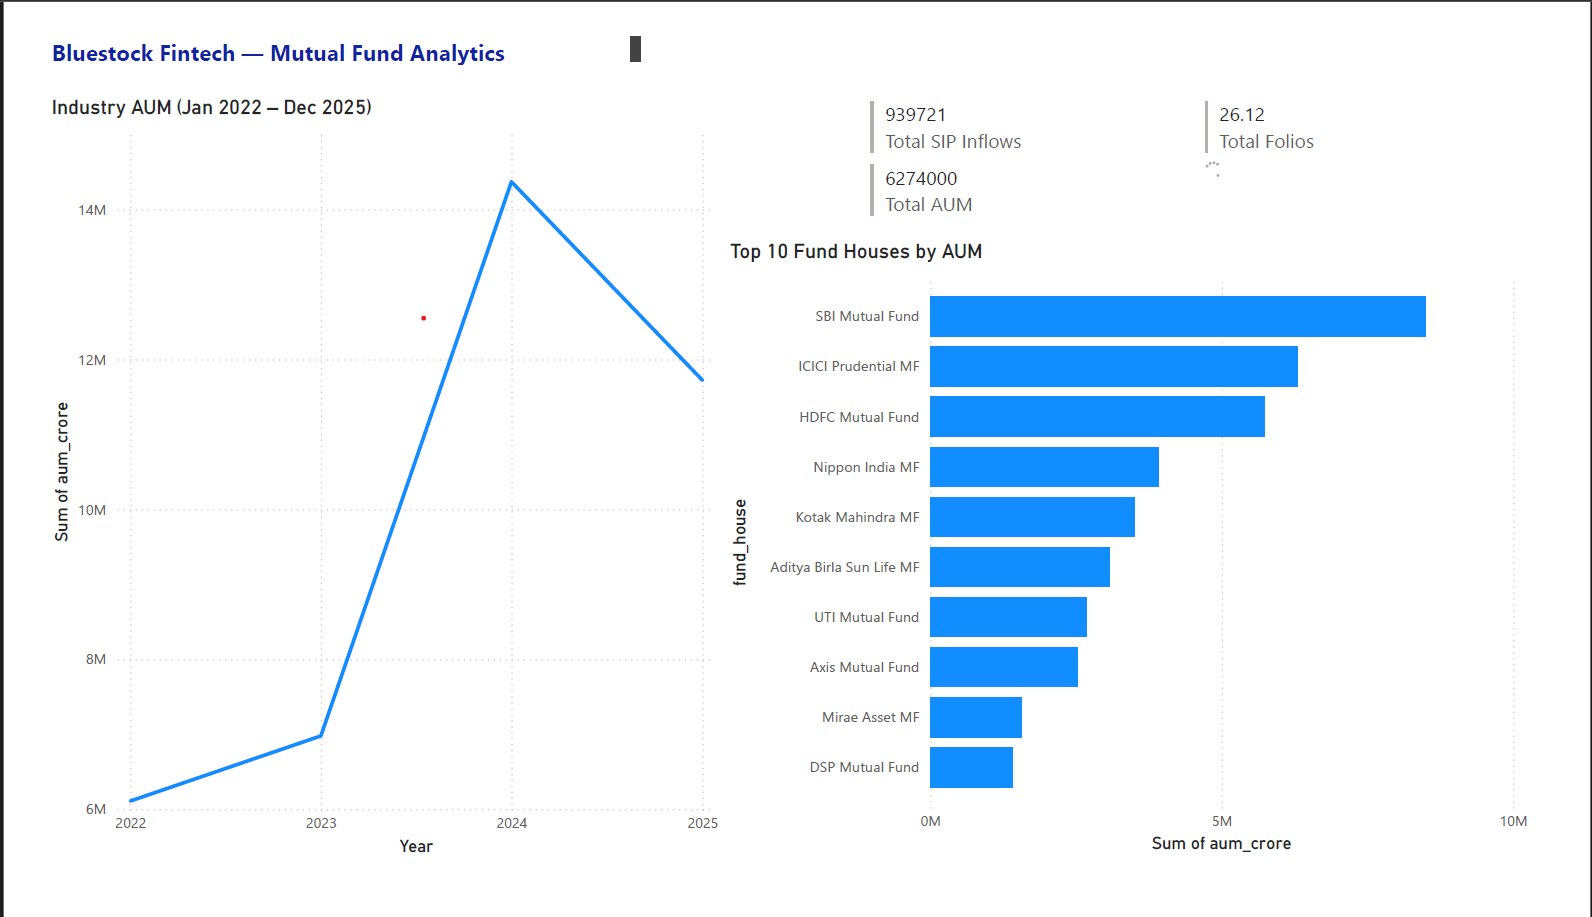

The page's visual inventory and layout, read from the dashboard file:
{"tool":"powerbi","page":{"name":"Industry Overview","canvas":[1280,720],"ordinal":0},"visuals":[{"type":"multiRowCard","fields":{"Values":["AUM.Total AUM"]},"box":[697.1,107,281.3,56.3],"z":0},{"type":"multiRowCard","fields":{"Values":["Folios.Total Folios"]},"box":[977,53.5,279.9,64.5],"z":1000},{"type":"multiRowCard","fields":{"Values":["Fund_Master.Total Schemes"]},"box":[977,107,281.3,67.2],"z":2000},{"type":"multiRowCard","fields":{"Values":["SIP.Total SIP Inflows"]},"box":[697.1,53.5,279.9,53.5],"z":3000},{"type":"lineChart","title":"Industry AUM (Jan 2022 – Dec 2025)","fields":{"Y":["Sum(AUM.aum_crore)"],"Category":["AUM.date.Variation.Date Hierarchy.Year","AUM.date.Variation.Date Hierarchy.Quarter","AUM.date.Variation.Date Hierarchy.Month","AUM.date.Variation.Date Hierarchy.Day"]},"box":[11,53.5,568.1,642.2],"z":4000},{"type":"clusteredBarChart","title":"Top 10 Fund Houses by AUM","fields":{"Category":["AUM.fund_house"],"Y":["Sum(AUM.aum_crore)"]},"box":[579.1,174.3,677.9,520.1],"z":5000},{"type":"textbox","box":[11.1,0,502.9,33.3],"z":6000}]}

Visuals, with their boxes in screenshot pixels (x1, y1, x2, y2), scaled from the page's 1280x720 canvas onto the 1592x917 screenshot:
multiRowCard - AUM.Total AUM: locate(867, 136, 1217, 208)
multiRowCard - Folios.Total Folios: locate(1215, 68, 1563, 150)
multiRowCard - Fund_Master.Total Schemes: locate(1215, 136, 1565, 222)
multiRowCard - SIP.Total SIP Inflows: locate(867, 68, 1215, 136)
"Industry AUM (Jan 2022 – Dec 2025)" lineChart: locate(14, 68, 720, 886)
"Top 10 Fund Houses by AUM" clusteredBarChart: locate(720, 222, 1563, 884)
textbox: locate(14, 0, 639, 42)
